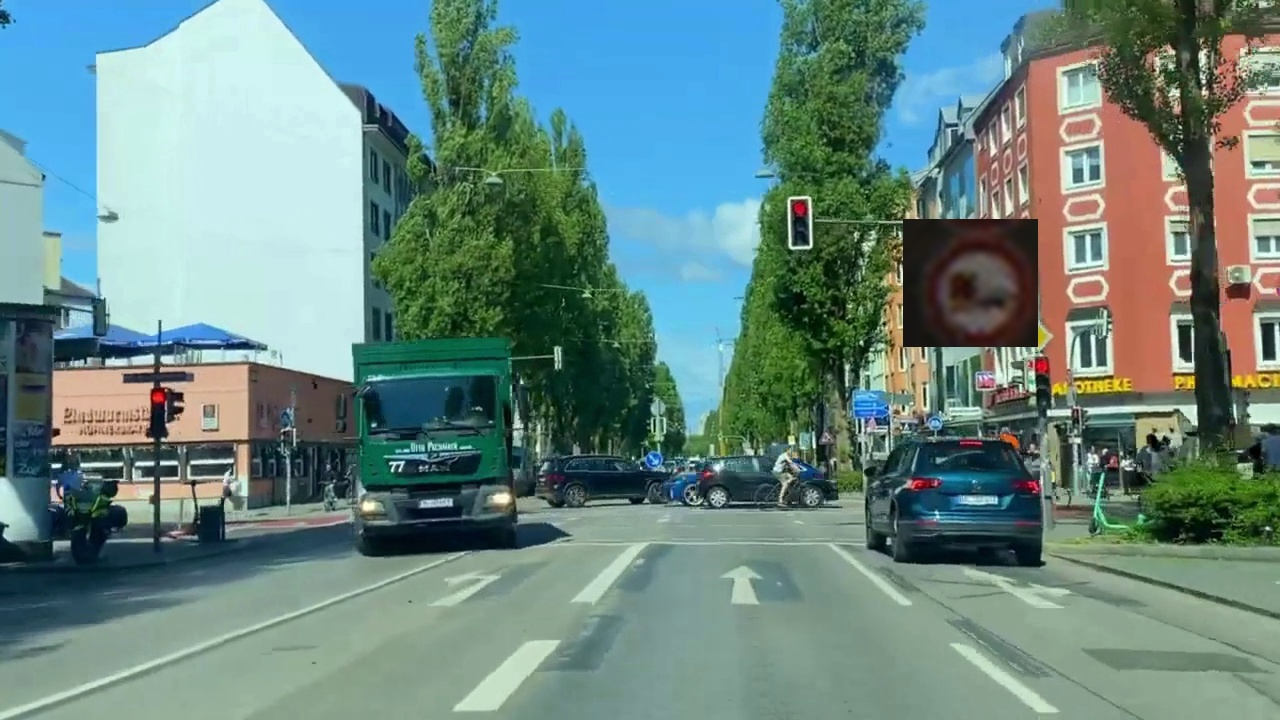No pass >3.5t: (903, 219, 1038, 347)
